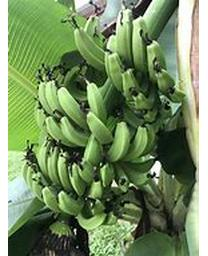banana: (23, 10, 186, 223)
